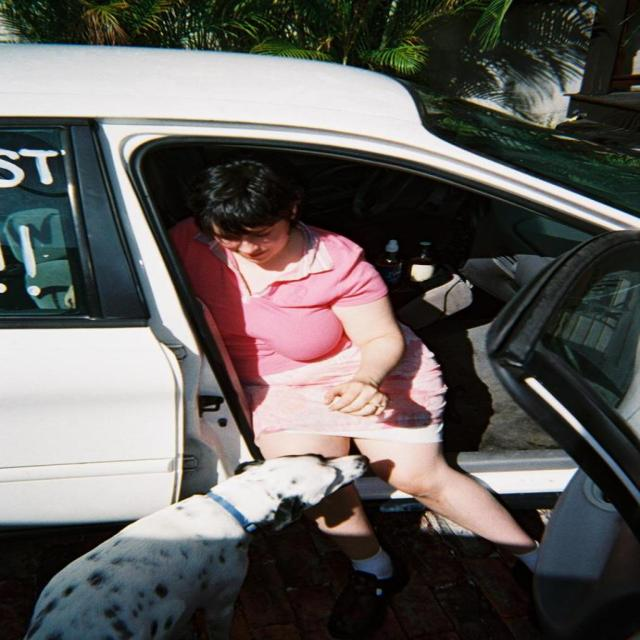car: (3, 33, 616, 602)
